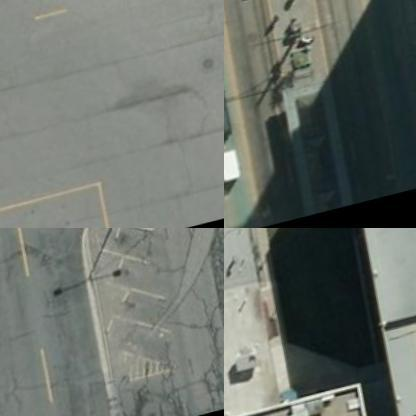car: (224, 76, 233, 137)
